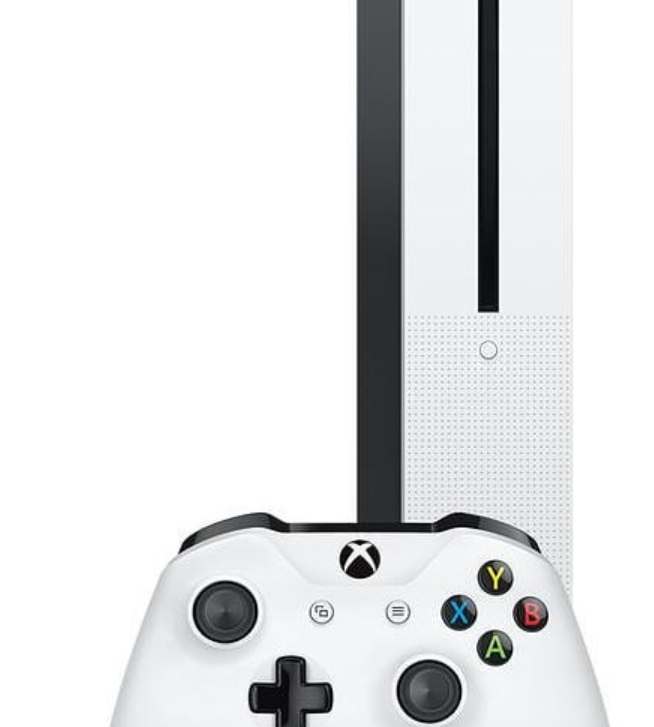gamingconsole: (105, 513, 613, 726)
